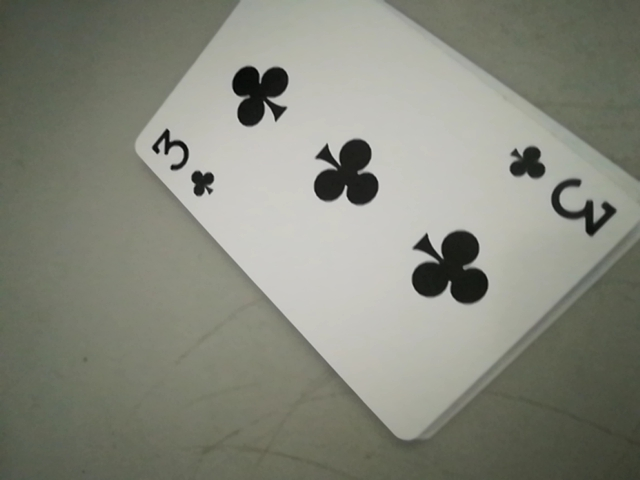mh 3: (509, 144, 620, 250), (139, 129, 214, 202)
